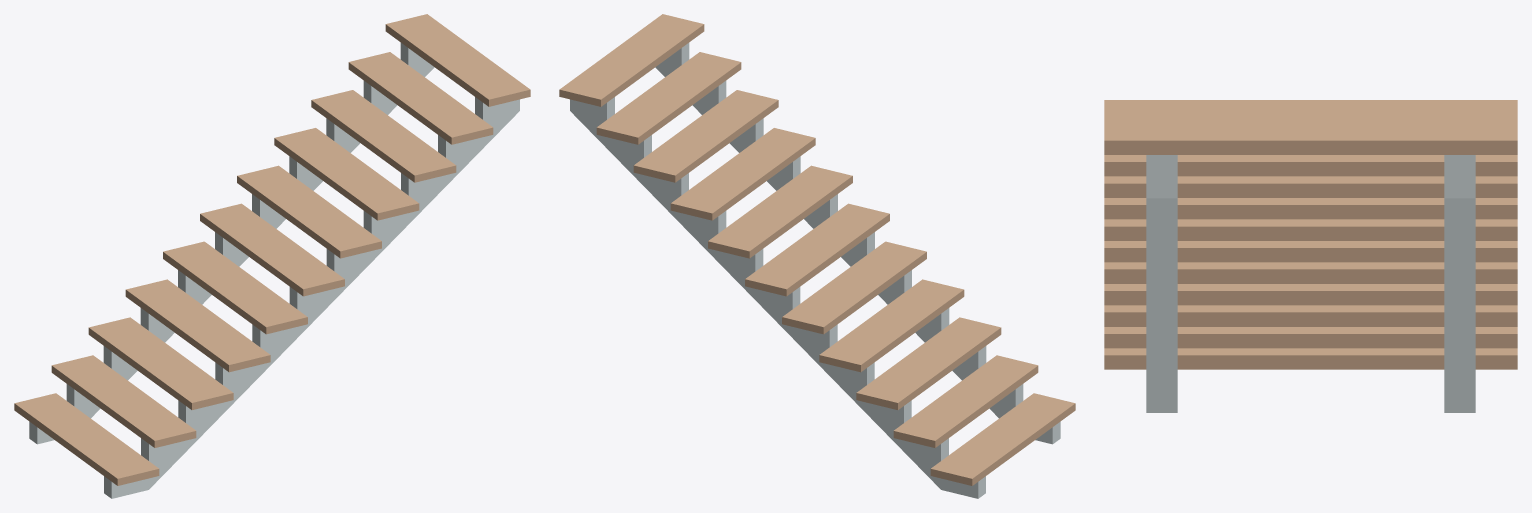
The model's file is stairsOpen.glb.
The picture shows the model from 3 angles, left to right: view 1: azimuth 30°, elevation 25°; view 2: azimuth 150°, elevation 25°; view 3: azimuth 270°, elevation 25°; orthographic projection. The views are drawn at different scales.
Visible parts, largest first — view 1: stairsOpen(Clone), Group; view 2: stairsOpen(Clone), Group; view 3: stairsOpen(Clone), Group.
Part boxes in pixels (bbox=[...]): stairsOpen(Clone): bbox=[14, 14, 530, 485]; Group: bbox=[29, 43, 519, 498]; stairsOpen(Clone): bbox=[559, 14, 1075, 485]; Group: bbox=[570, 43, 1060, 498]; stairsOpen(Clone): bbox=[1104, 100, 1517, 369]; Group: bbox=[1146, 155, 1475, 412].
Size of the model in its own units: 1.82 by 1.34 by 0.79.
